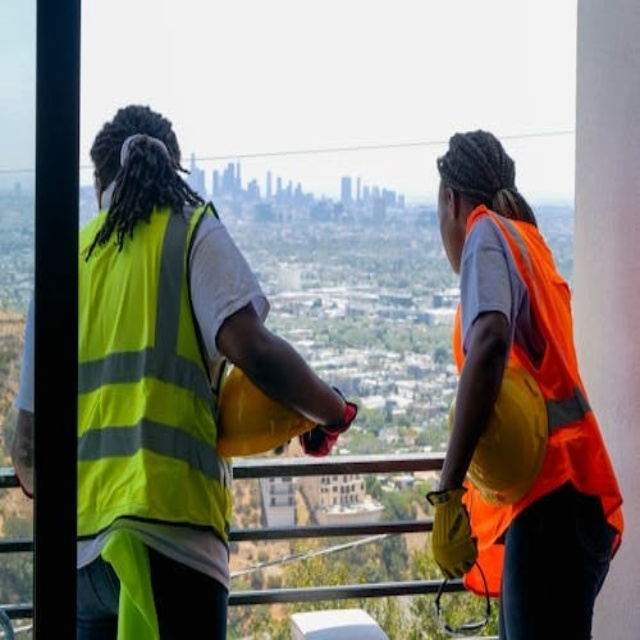Guantes: (427, 485, 477, 580), (299, 388, 356, 457), (17, 472, 35, 500)
